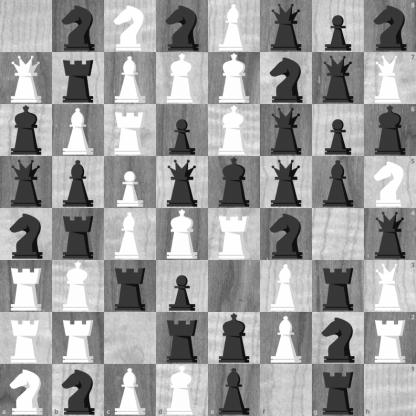B: (104, 364, 156, 416), (53, 105, 104, 156), (105, 53, 156, 104), (105, 209, 156, 260), (209, 1, 260, 52), (261, 261, 312, 312), (261, 313, 312, 364)
K: (156, 364, 209, 416), (53, 261, 104, 312), (157, 53, 208, 104), (157, 209, 208, 260), (209, 53, 260, 104), (209, 105, 260, 156)
N: (364, 156, 416, 209), (0, 364, 52, 416), (105, 1, 156, 52)
P: (105, 157, 156, 208)
Q: (364, 52, 416, 104), (364, 260, 416, 312), (1, 53, 52, 104)
R: (364, 312, 416, 364), (1, 261, 52, 312), (1, 313, 52, 364), (53, 313, 104, 364), (105, 105, 156, 156), (209, 209, 260, 260)
b: (209, 364, 260, 416), (53, 157, 104, 208), (313, 157, 364, 208)
board: (0, 0, 415, 415)
k: (364, 104, 416, 156), (1, 105, 52, 156), (209, 157, 260, 208), (209, 313, 260, 364)
n: (52, 364, 104, 416), (364, 0, 416, 52), (1, 209, 52, 260), (53, 1, 104, 52), (157, 1, 208, 52), (261, 53, 312, 104), (261, 209, 312, 260), (313, 313, 364, 364)
p: (157, 105, 208, 156), (157, 261, 208, 312), (313, 1, 364, 52), (313, 105, 364, 156)
q: (364, 209, 416, 260), (1, 157, 52, 208), (157, 157, 208, 208), (261, 1, 312, 52), (261, 105, 312, 156), (261, 157, 312, 208), (313, 53, 364, 104)
r: (312, 364, 364, 416), (53, 53, 104, 104), (53, 209, 104, 260), (105, 261, 156, 312), (157, 313, 208, 364), (313, 261, 364, 312)
